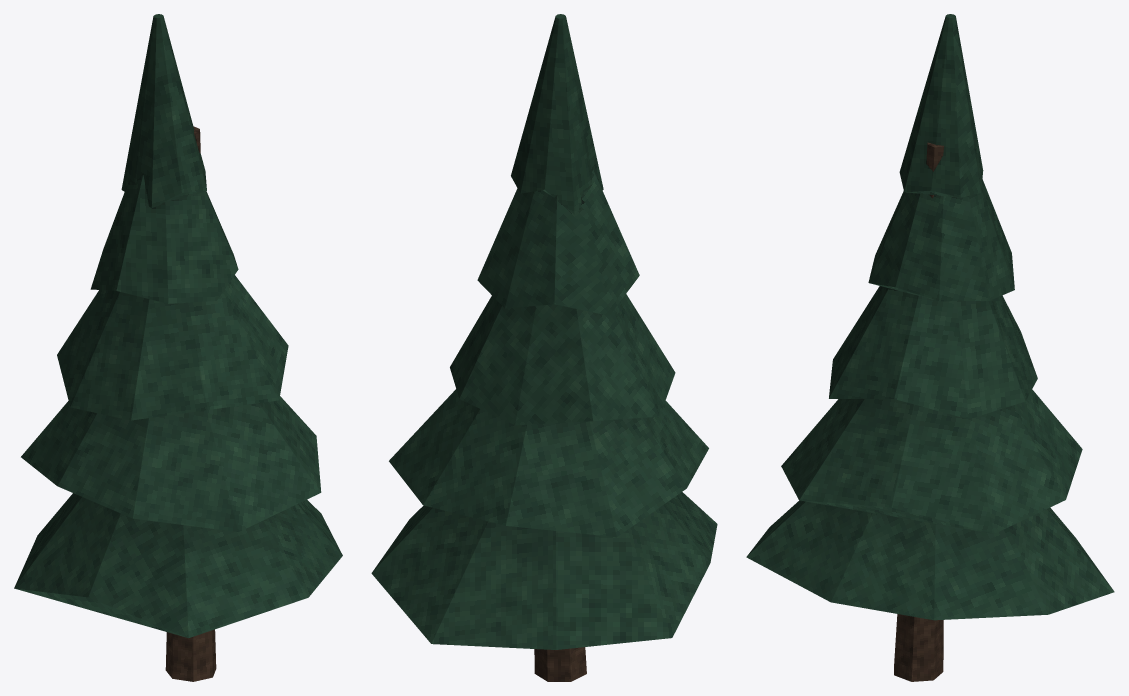
Rendered from snow_pine_b.glb.
The picture shows the model from 3 angles, left to right: view 1: azimuth 30°, elevation 25°; view 2: azimuth 150°, elevation 25°; view 3: azimuth 270°, elevation 25°; orthographic projection. The views are drawn at different scales.
Parts seen in each view (by area): view 1: snow_pine_b; view 2: snow_pine_b; view 3: snow_pine_b.
Boxes of the visible parts, bbox=[...] form: snow_pine_b: bbox=[14, 14, 342, 681]; snow_pine_b: bbox=[371, 14, 717, 681]; snow_pine_b: bbox=[746, 14, 1114, 681].
Bounding box in the file's own units: 3.14 × 6.94 × 3.58.
Materials: 2 (2 with a texture image).
